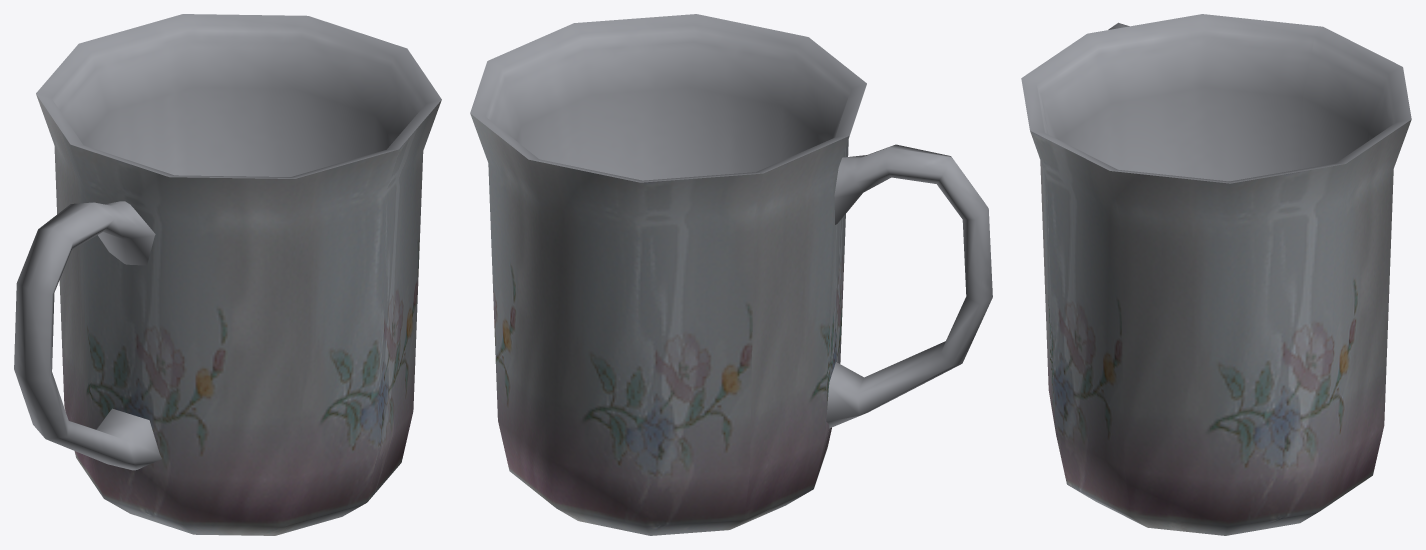
Rendered from cup-3.FBX.
3 renders of one model, left to right at view 1: azimuth 30°, elevation 25°; view 2: azimuth 150°, elevation 25°; view 3: azimuth 270°, elevation 25°, orthographic.
Visible parts, largest first — view 1: cup-3_LOD0; view 2: cup-3_LOD0; view 3: cup-3_LOD0.
Part boxes in pixels (left/top/right/bottom): cup-3_LOD0: left=14, top=14, right=441, bottom=535; cup-3_LOD0: left=470, top=14, right=992, bottom=535; cup-3_LOD0: left=1021, top=14, right=1411, bottom=535.
Size of what is drawn, in the model's own units: 5.36 by 4.44 by 4.11.
